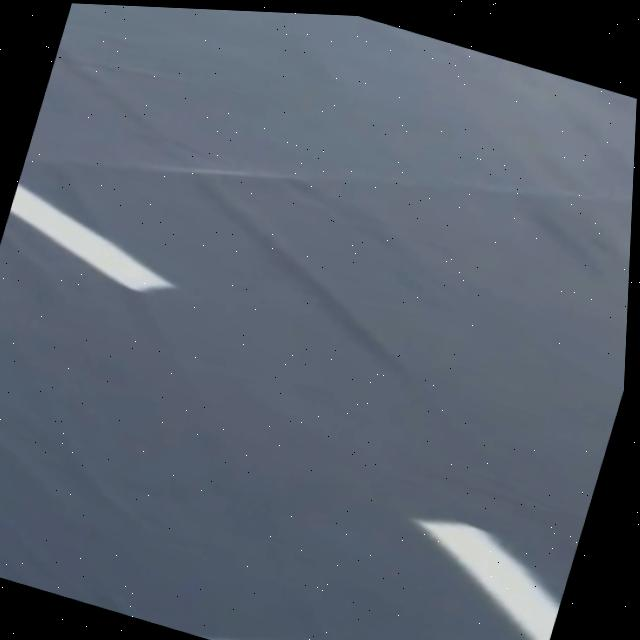center: (8, 183, 172, 291), (414, 519, 559, 640)
